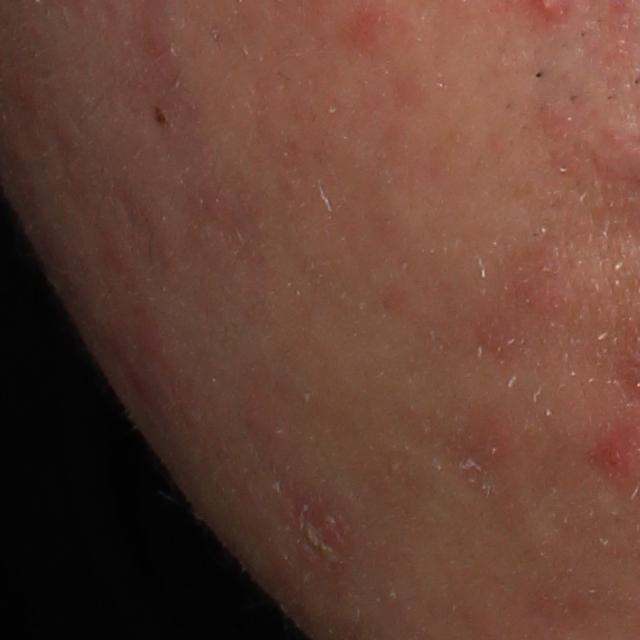nevus: (151, 101, 172, 130)
